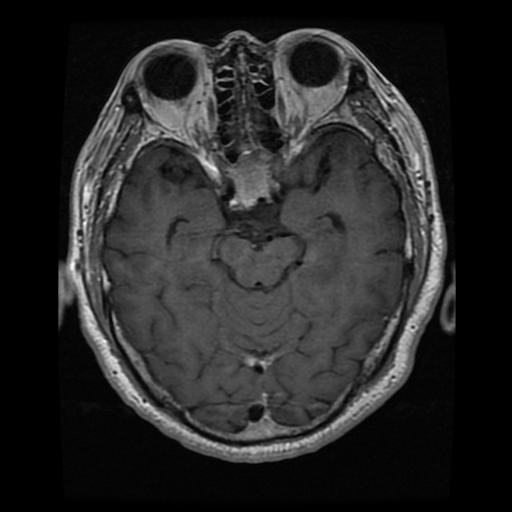Pituirity_tumour: (232, 153, 271, 203)
